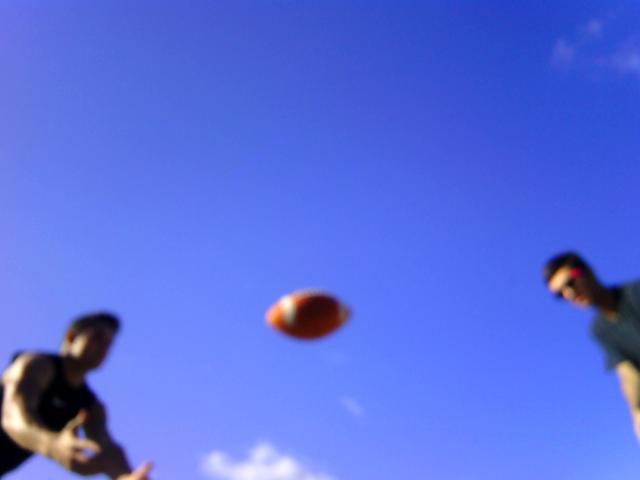football: (260, 287, 356, 340)
